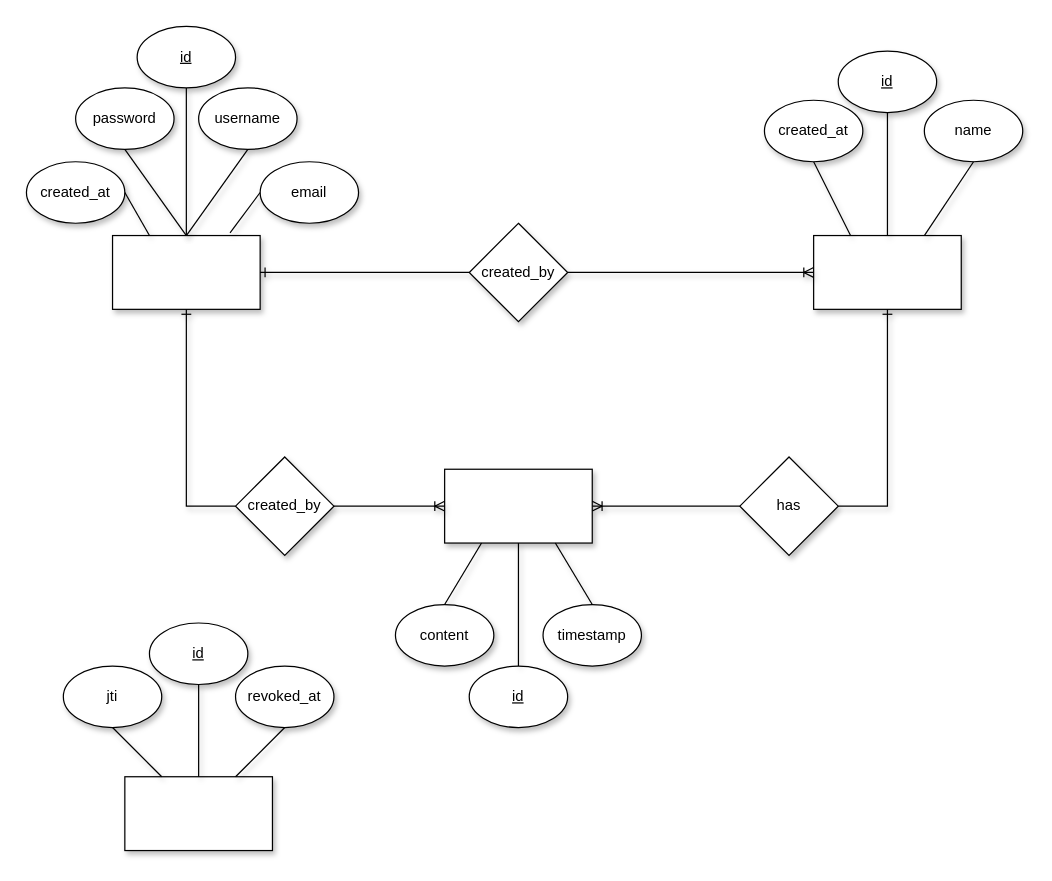
This 1052x881 diagram has some shape labels left out. Here are the shapes that lost their labels. From the top down, the centre of each, then its label:
At [187,273]: "users".
At [888,273]: "chat_rooms".
At [519,507]: "messages".
At [199,815]: "revoked_tokens".
